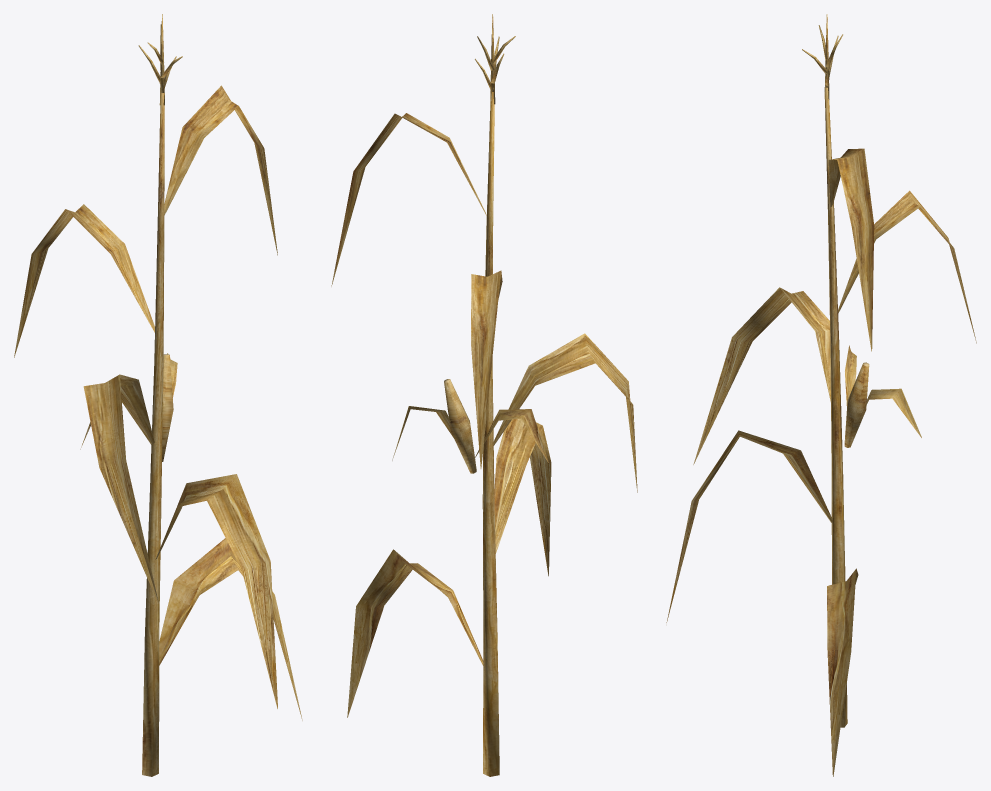
File: Corn_A_Mid.glb
3 renders of one model, left to right at view 1: azimuth 30°, elevation 25°; view 2: azimuth 150°, elevation 25°; view 3: azimuth 270°, elevation 25°, orthographic. The views are drawn at different scales.
Visible parts, largest first — view 1: Corn_A_Mid; view 2: Corn_A_Mid; view 3: Corn_A_Mid.
Part boxes in pixels (x1,y1,x2,y2): Corn_A_Mid: (14, 14, 302, 776); Corn_A_Mid: (331, 14, 637, 776); Corn_A_Mid: (666, 14, 976, 776).
Bounding box in the file's own units: 2.71 × 8 × 3.16.
Materials: 1 (1 with a texture image).
